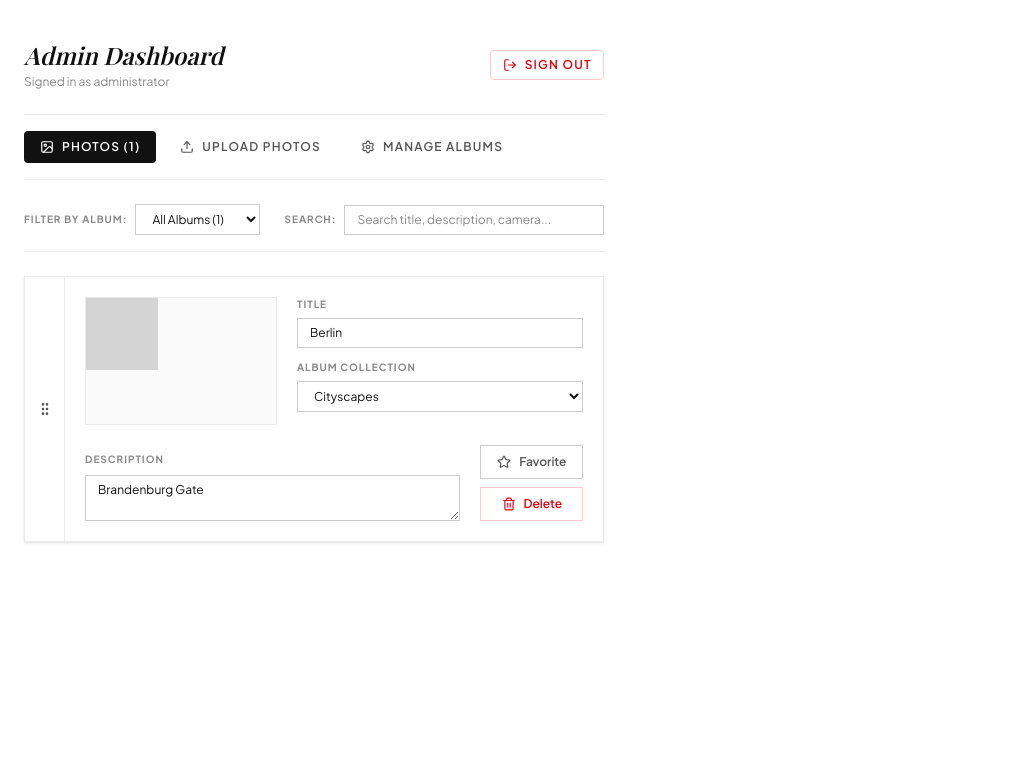
Scenario: AdminDashboard Deferred Save Tests › should revert title changes and hide banner when Revert button is clicked
The image size is (1024, 768).
Note: Simulate change
Replace the text in the field showing "Berlin" with "Berlin New" at [440, 333], box left=297, top=318, right=584, bottom=348
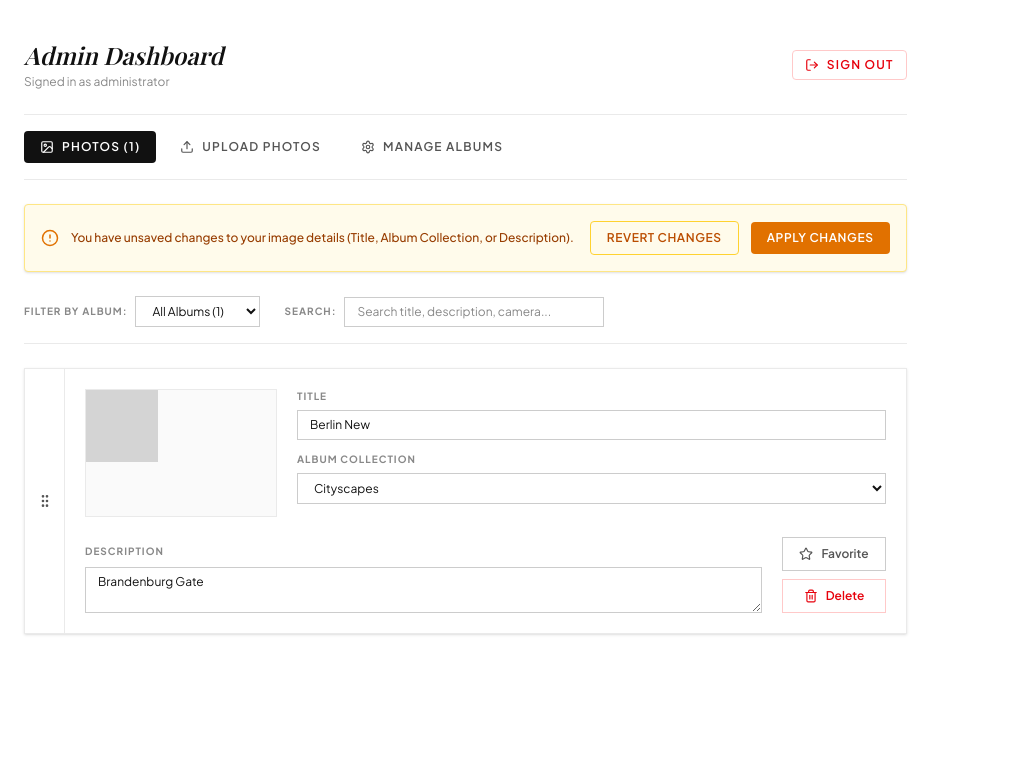
Check: the button "Revert Changes" is shown
Note: Click Revert
Click the button "Revert Changes" at [664, 238], box left=590, top=221, right=739, bottom=255
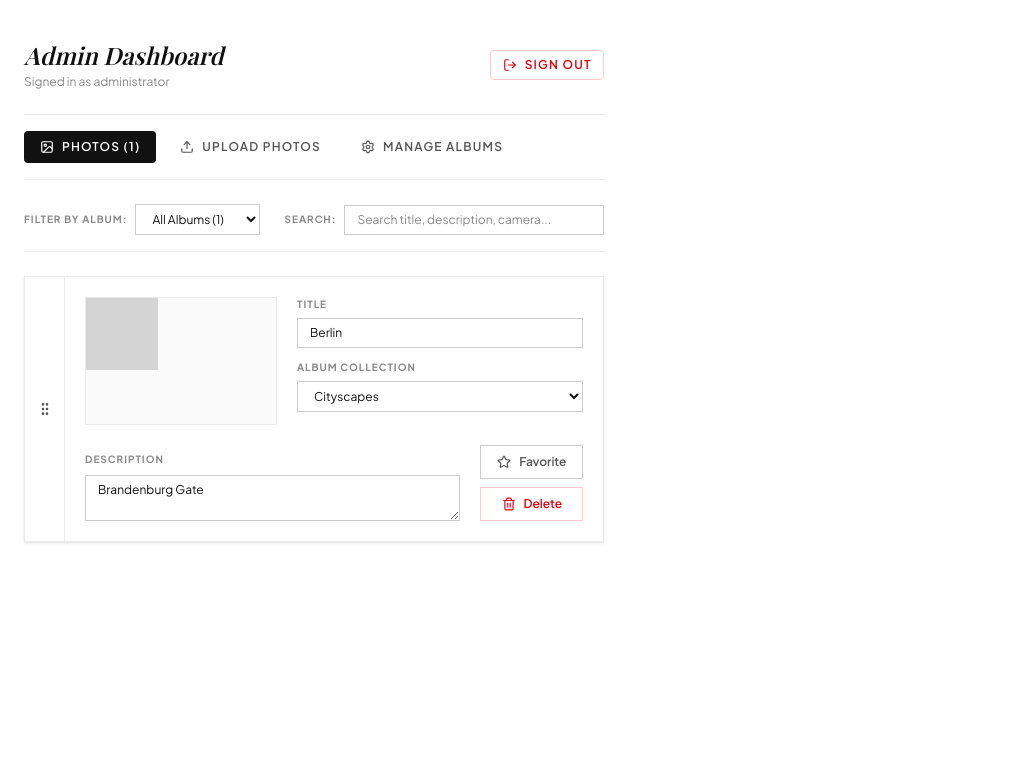
Check: the field showing "Berlin" holds "Berlin", box left=297, top=318, right=584, bottom=348
Check: the text "You have unsaved changes to your image details" is gone
